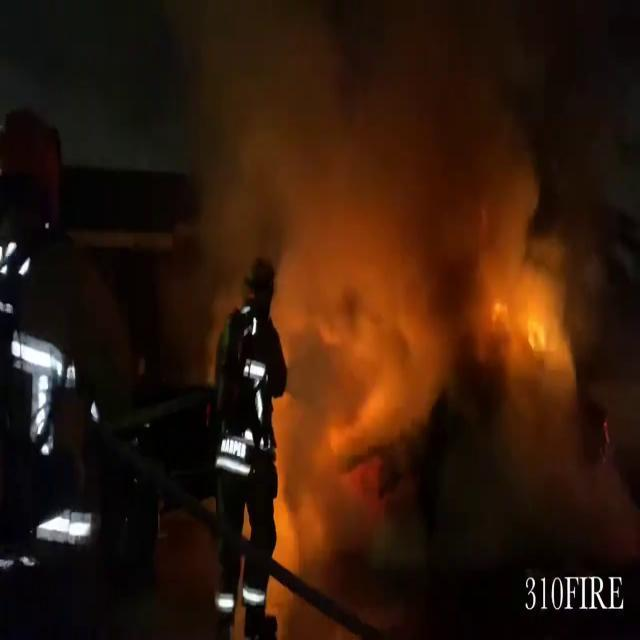Smoke: (149, 0, 586, 549)
